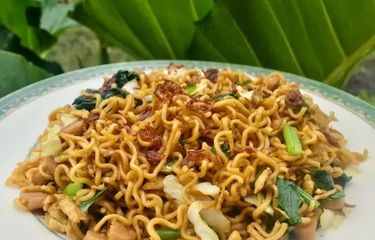Mie: (47, 80, 356, 239)
